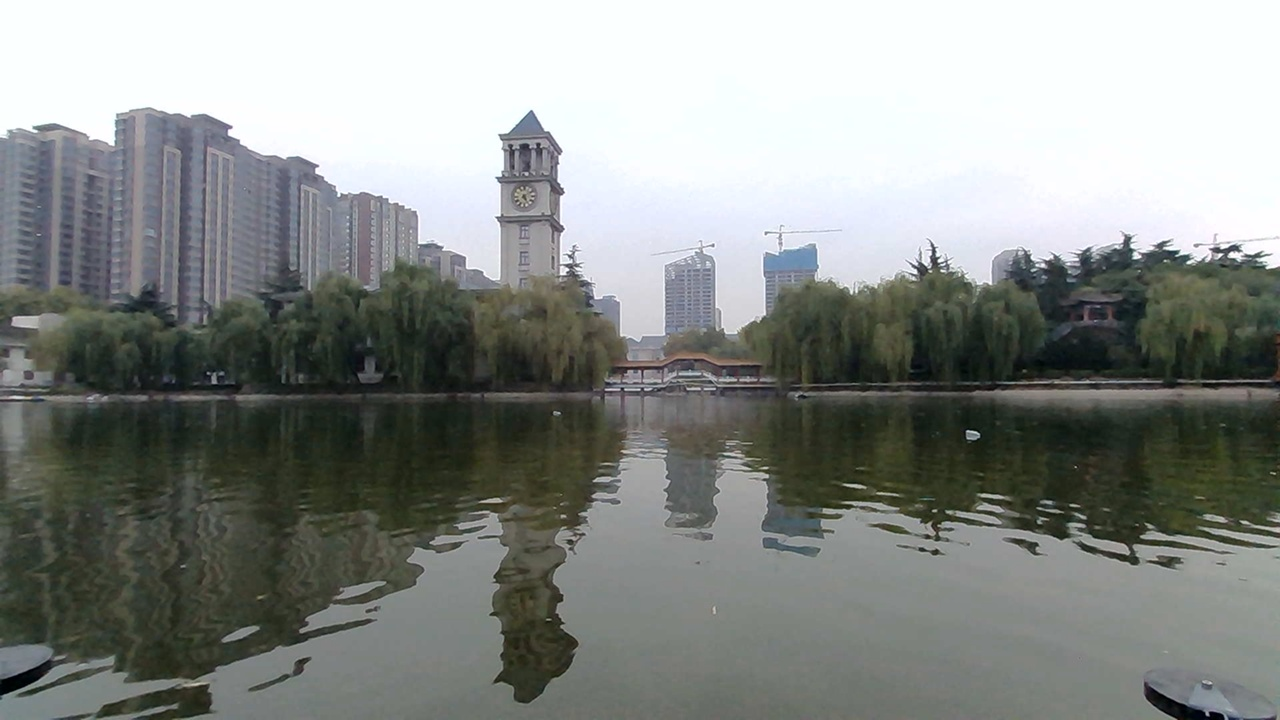bottle: (958, 424, 990, 445)
